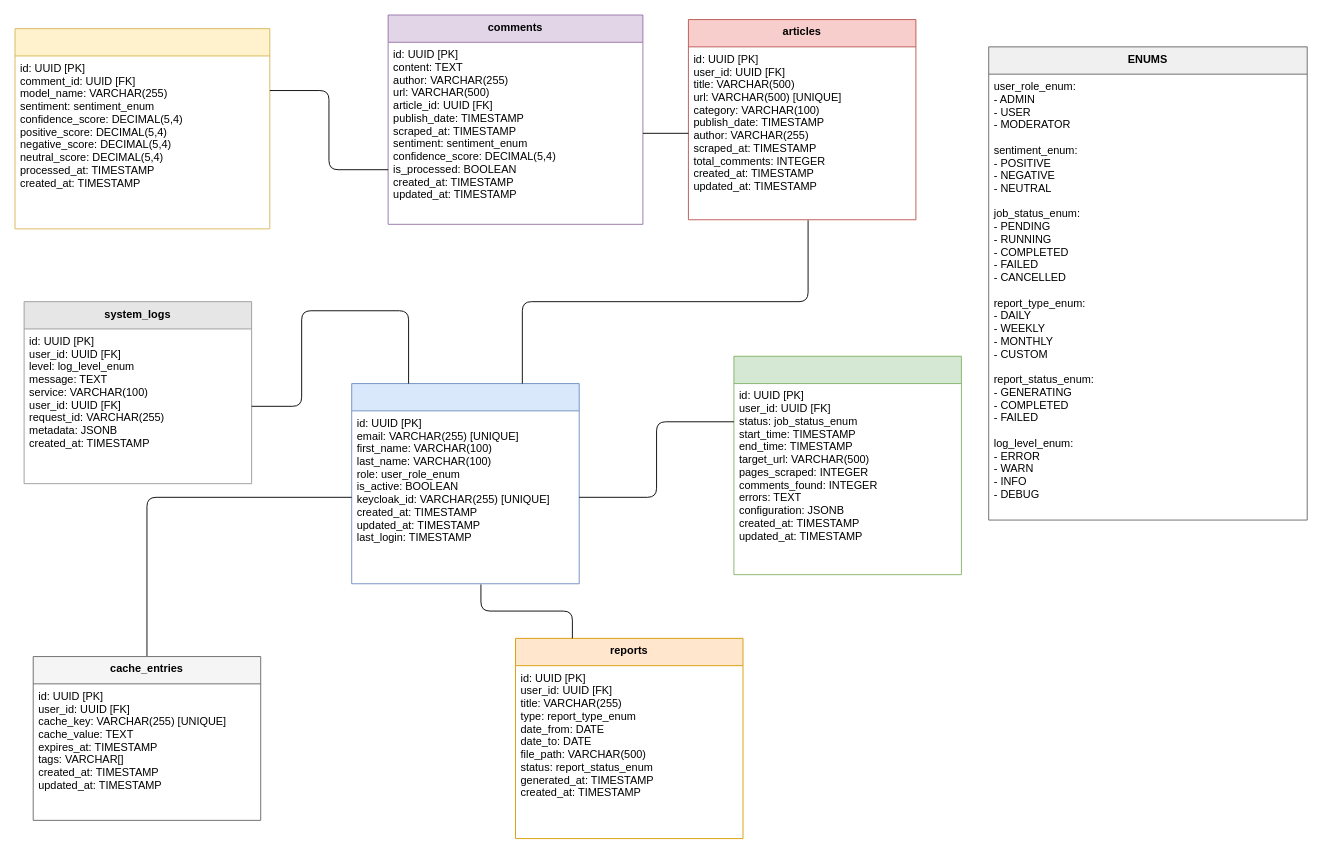
Some shapes in this 1322 by 854 pixel diagram are drawn without their labels. Each missing label, with the box of its shape:
scraping_jobs: (733, 355, 961, 575)
sentiment_analysis_results: (14, 28, 270, 229)
users: (351, 383, 579, 584)
